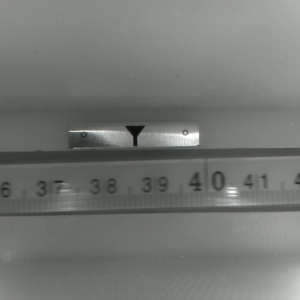0: (211, 172, 225, 192)
1: (259, 173, 267, 189)
3: (34, 180, 47, 196), (141, 177, 152, 193), (89, 178, 100, 193)
4: (188, 172, 203, 191), (243, 174, 253, 189), (294, 172, 300, 188)
6: (0, 182, 11, 199)
7: (52, 180, 63, 195)
8: (106, 177, 117, 193)
9: (158, 176, 169, 192)
finger: (122, 126, 146, 146)
